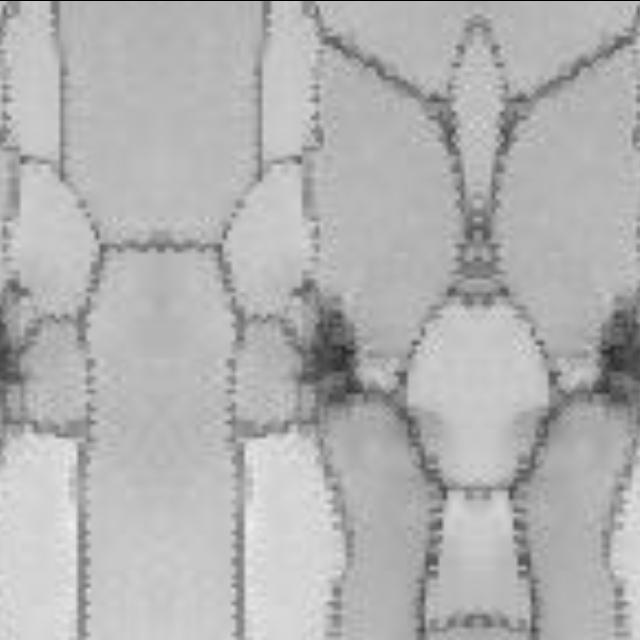good_void: (272, 256, 385, 431), (579, 273, 640, 425), (0, 268, 30, 426)
